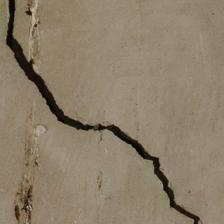Crack: (79, 61, 180, 135), (10, 92, 122, 130), (79, 88, 117, 109), (40, 89, 66, 113)
